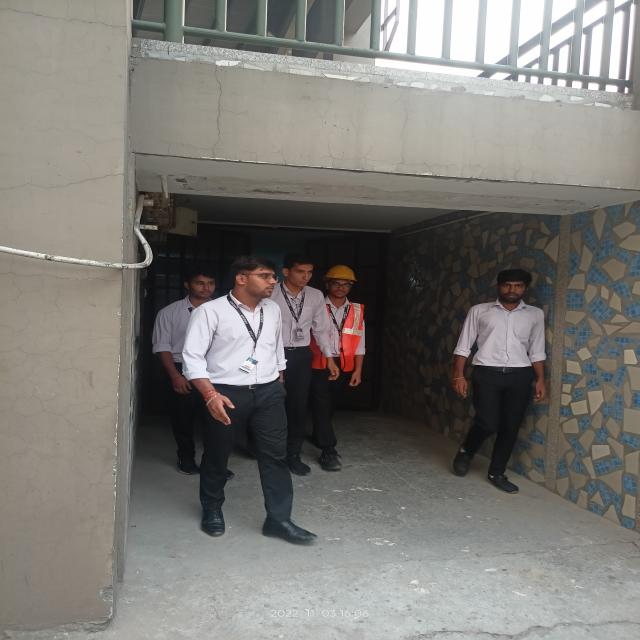safe: (316, 262, 372, 478)
unsafe: (209, 258, 310, 550), (446, 263, 546, 500), (157, 264, 216, 476), (281, 250, 321, 480)
